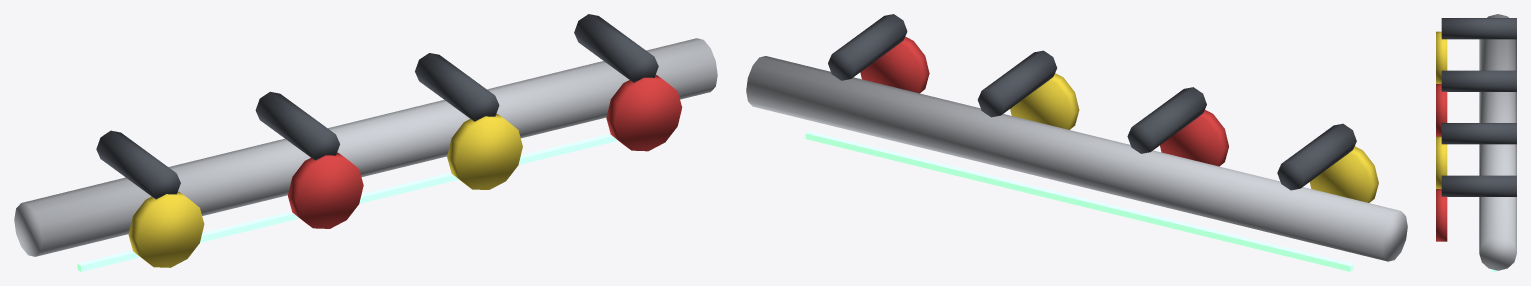
The model's file is pipe_run_valve_bank.glb.
3 renders of one model, left to right at view 1: azimuth 30°, elevation 25°; view 2: azimuth 150°, elevation 25°; view 3: azimuth 270°, elevation 25°, orthographic. The views are drawn at different scales.
Parts seen in each view (by area): view 1: GD_pipe_run_valve_bank__m0, GD_pipe_run_valve_bank__m1, GD_pipe_run_valve_bank__m2, GD_pipe_run_valve_bank__m3, GD_pipe_run_valve_bank__m4; view 2: GD_pipe_run_valve_bank__m0, GD_pipe_run_valve_bank__m1, GD_pipe_run_valve_bank__m4, GD_pipe_run_valve_bank__m3, GD_pipe_run_valve_bank__m2; view 3: GD_pipe_run_valve_bank__m1, GD_pipe_run_valve_bank__m0, GD_pipe_run_valve_bank__m3, GD_pipe_run_valve_bank__m2.
Part boxes in pixels (x1,y1,x2,y2): GD_pipe_run_valve_bank__m0: (14,38,717,256); GD_pipe_run_valve_bank__m1: (96,14,658,199); GD_pipe_run_valve_bank__m2: (128,114,522,267); GD_pipe_run_valve_bank__m3: (288,75,682,228); GD_pipe_run_valve_bank__m4: (77,133,617,271); GD_pipe_run_valve_bank__m0: (746,56,1407,261); GD_pipe_run_valve_bank__m1: (828,14,1356,190); GD_pipe_run_valve_bank__m4: (805,131,1353,271); GD_pipe_run_valve_bank__m3: (860,36,1228,166); GD_pipe_run_valve_bank__m2: (1010,73,1378,202); GD_pipe_run_valve_bank__m1: (1441,18,1516,196); GD_pipe_run_valve_bank__m0: (1479,14,1516,270); GD_pipe_run_valve_bank__m3: (1436,84,1447,241); GD_pipe_run_valve_bank__m2: (1436,31,1447,188).
Bounding box in the file's own units: 1.4 × 0.23 × 0.215.
